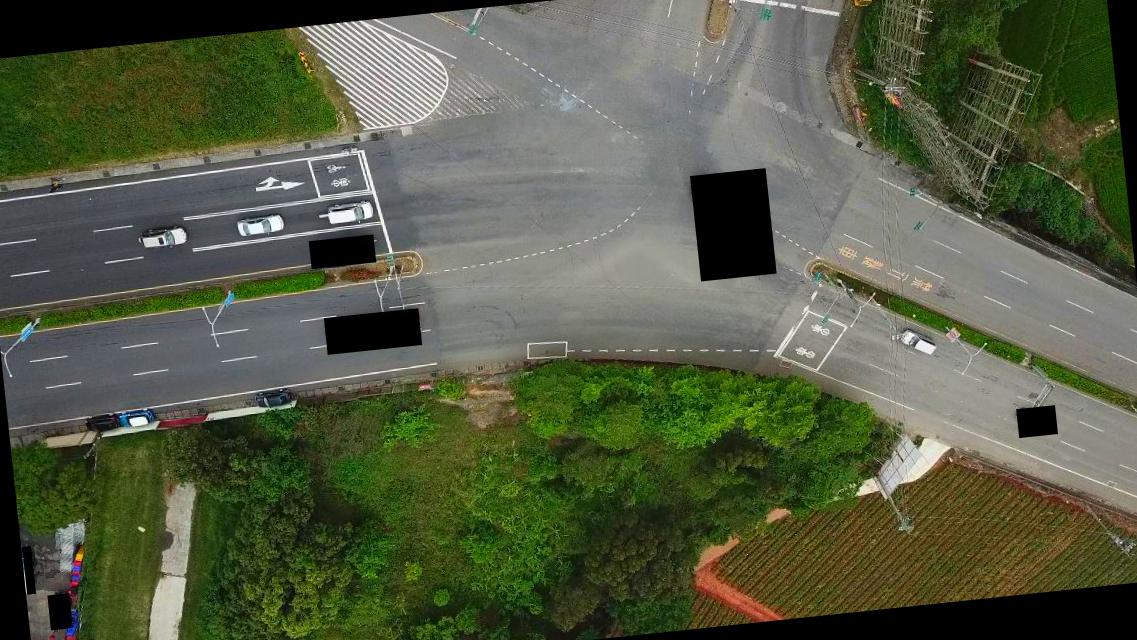vehicle: (136, 224, 189, 250), (234, 212, 286, 238), (324, 199, 374, 226), (898, 327, 937, 358), (252, 386, 292, 408), (118, 408, 154, 428), (84, 413, 119, 433)
